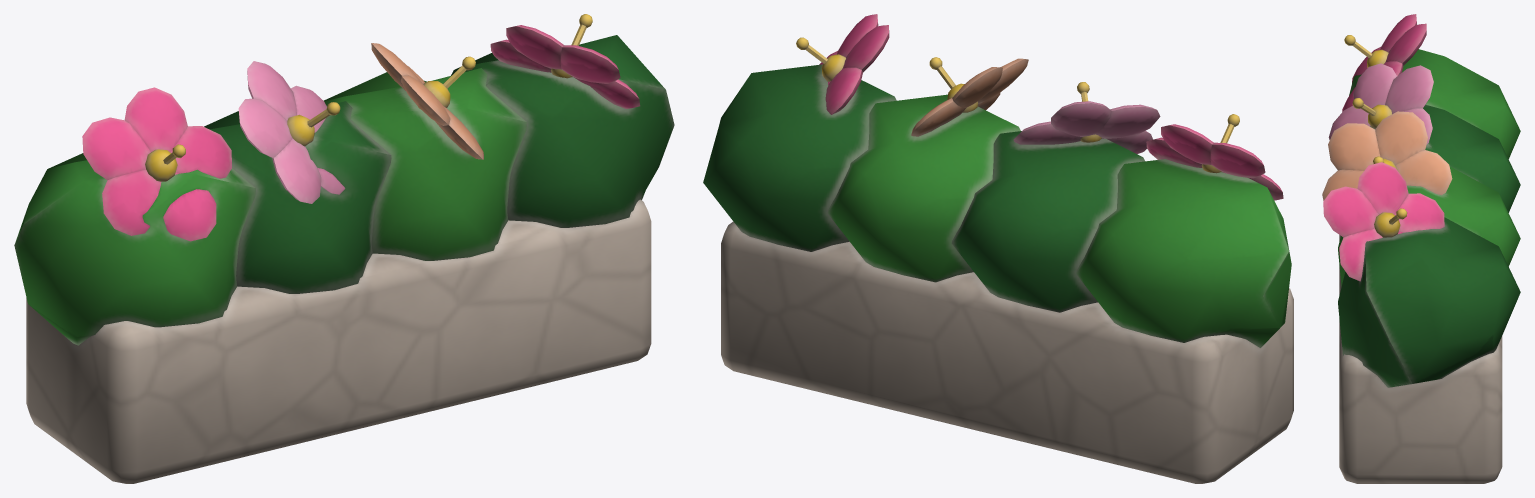
Rendered from rc_flower_planter.glb.
The picture shows the model from 3 angles, left to right: view 1: azimuth 30°, elevation 25°; view 2: azimuth 150°, elevation 25°; view 3: azimuth 270°, elevation 25°; orthographic projection. The views are drawn at different scales.
Parts seen in each view (by area): view 1: rc_flower_planter; view 2: rc_flower_planter; view 3: rc_flower_planter.
Boxes of the visible parts, bbox=[...] form: rc_flower_planter: bbox=[14, 14, 674, 483]; rc_flower_planter: bbox=[703, 14, 1293, 483]; rc_flower_planter: bbox=[1322, 14, 1520, 483].
Bounding box in the file's own units: 1.62 × 0.8584 × 0.5476.
7 materials, 7 textured.
